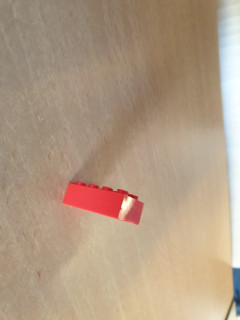2x4 red: (61, 180, 144, 226)
